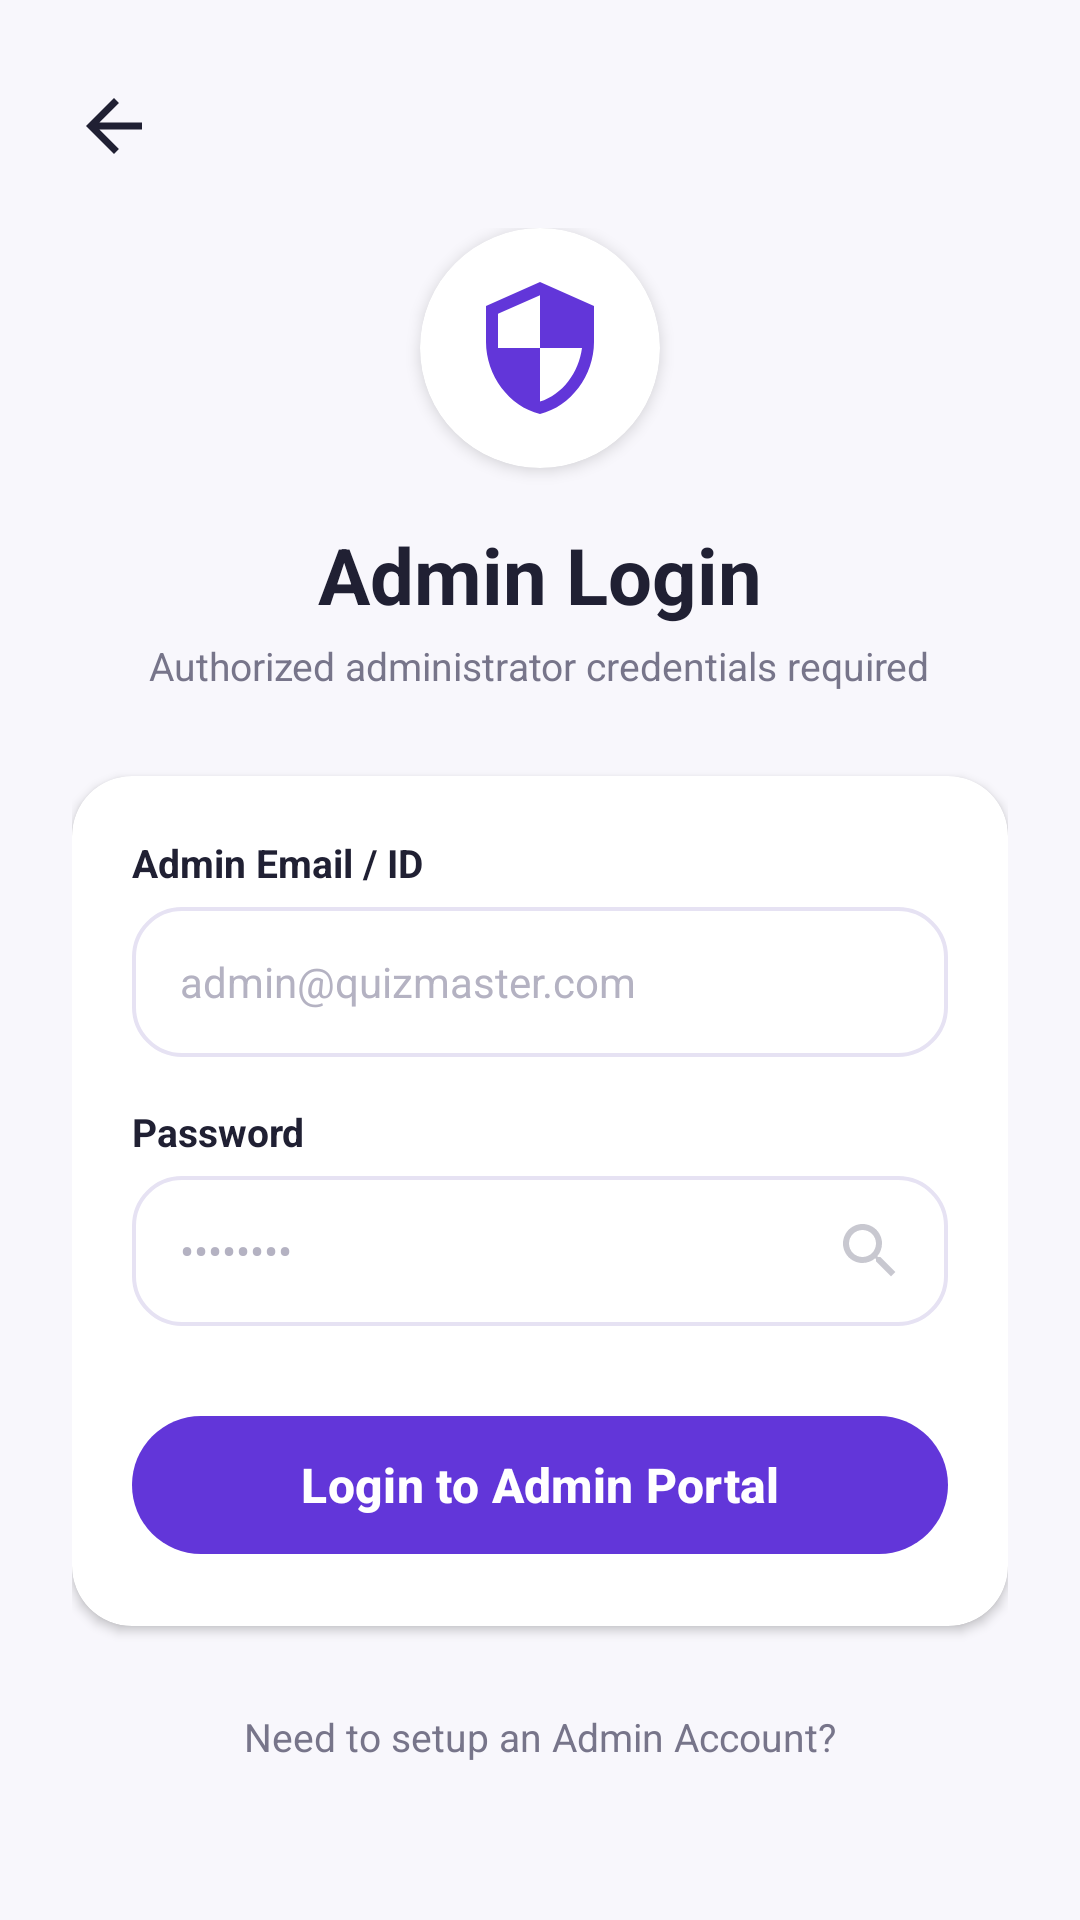

Locate icon controls on the screen. Image size 1080 x 1920, boxes as [left=x1, top=y1, right=x2, bottom=y2].
Admin Shield: [left=486, top=282, right=594, bottom=414]
Back: [left=86, top=98, right=142, bottom=154]
